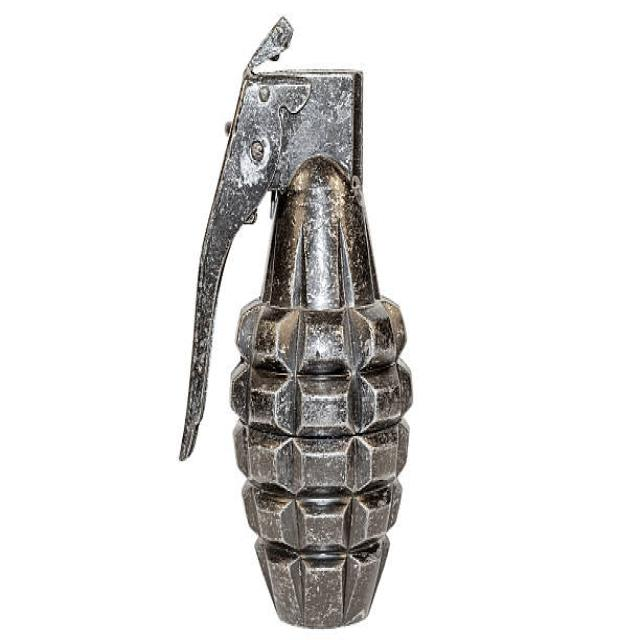grenade: (175, 17, 419, 638)
